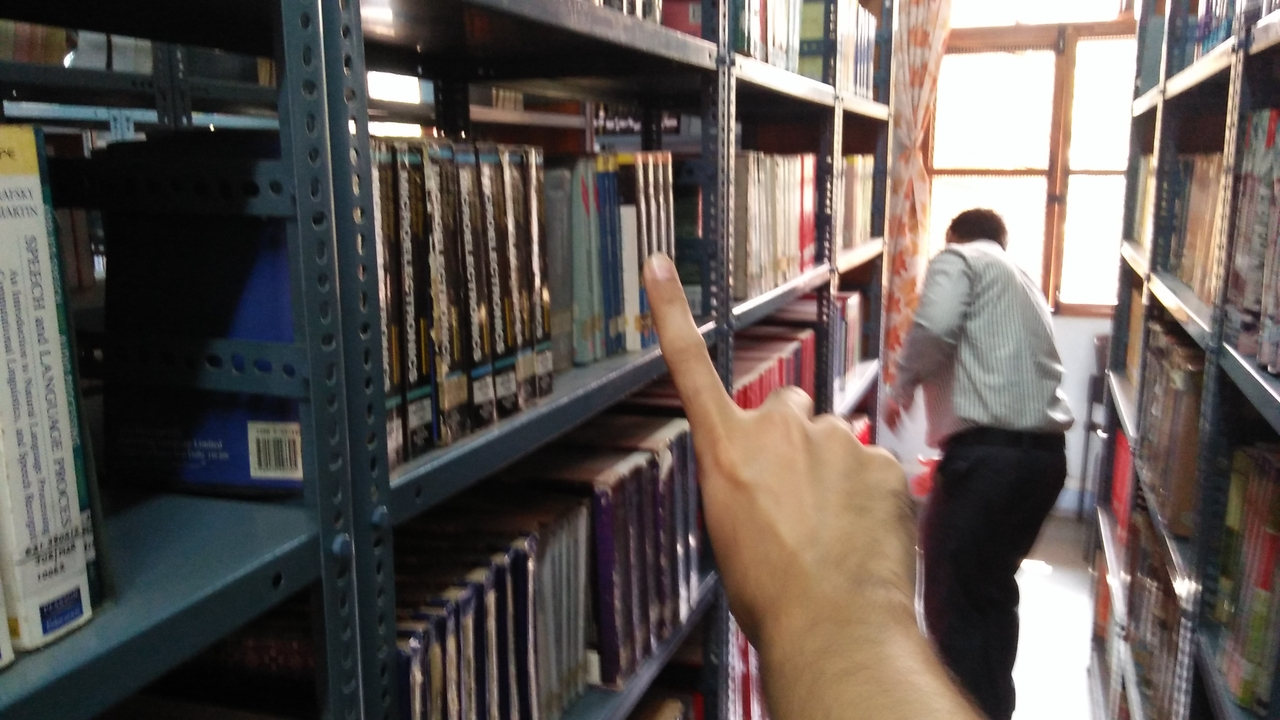fingertip: (636, 246, 686, 296)
